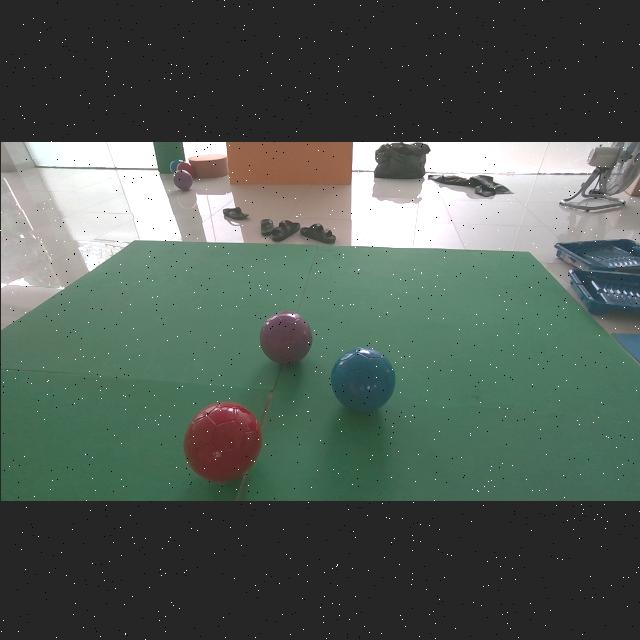B: (330, 346, 395, 410)
P: (259, 309, 312, 363)
R: (183, 400, 262, 480)
